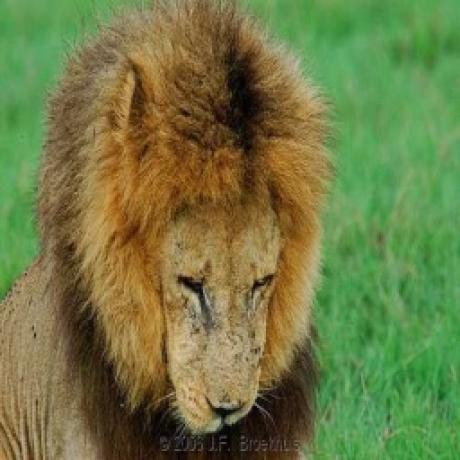Lion: (0, 1, 344, 460)
